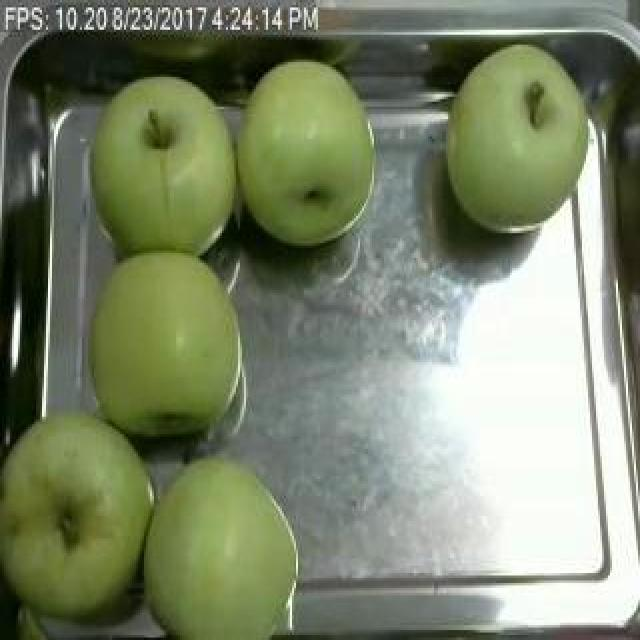Rotten Apple: (0, 397, 154, 640), (452, 27, 604, 258), (90, 250, 260, 446), (240, 35, 386, 260), (148, 424, 300, 640), (83, 48, 235, 262)
